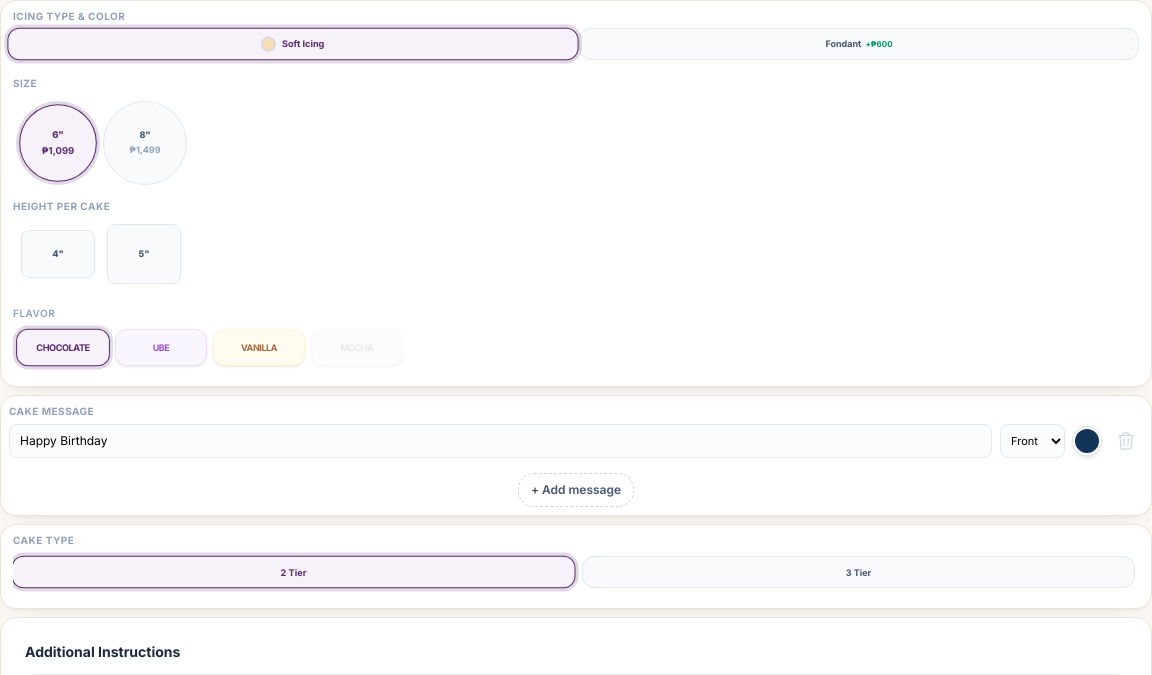
Test: CustomizingStepSummarySections › hides the fix icing color button and shows a wait notice during background edits
Click the button "Soft Icing": coordinates (293, 44) top-left (7, 28), bottom-right (579, 60)
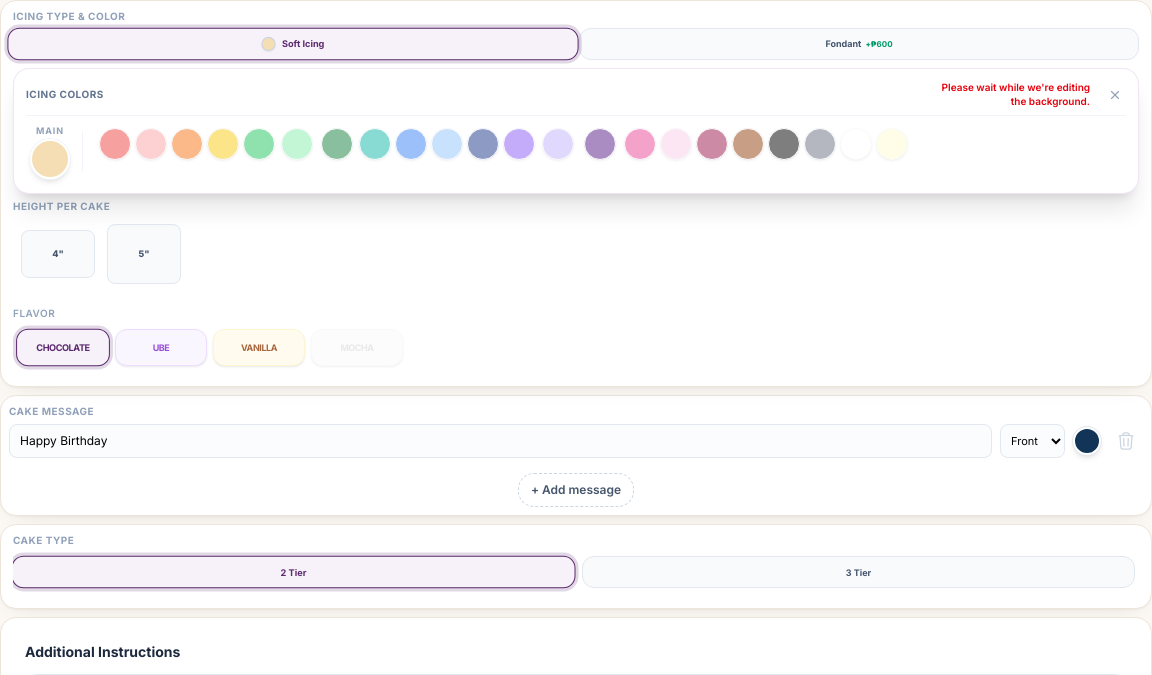
Now the text "Please wait while we're editing the background." is shown, box top-left (940, 81), bottom-right (1090, 108)
